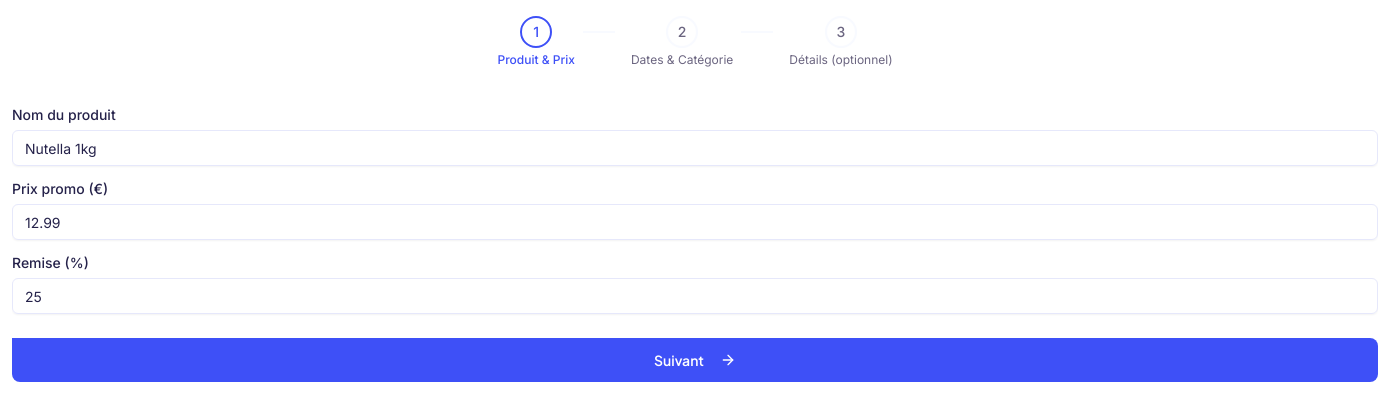
Test case: EditOfferForm › startDate disabled when offer already started › disables startDate field when offer has started
Click the button "Suivant".
click(695, 360)  # box x1=12 y1=338 x2=1378 y2=382
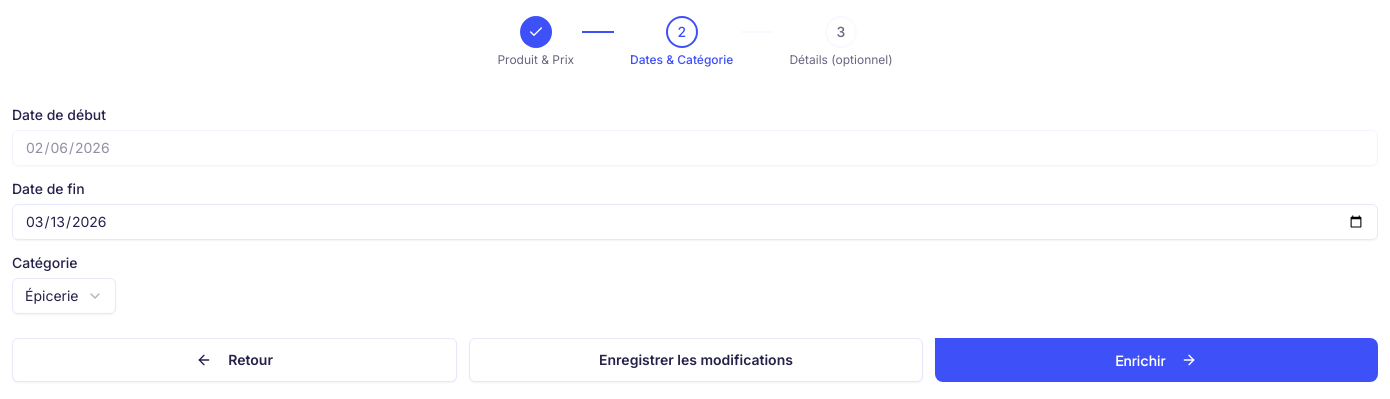
Check: the date field labelled "Date de début" is disabled, box x1=12 y1=130 x2=1378 y2=166
